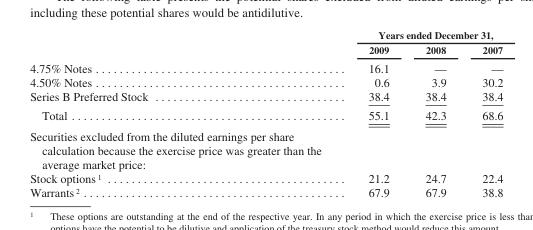table: (29, 28, 502, 198)
table column: (29, 28, 257, 198), (257, 28, 406, 198), (406, 28, 463, 198), (463, 28, 502, 198)
table column header: (29, 28, 502, 58)
table projected row header: (29, 125, 502, 170)
table row: (29, 125, 502, 170), (29, 105, 502, 125), (29, 58, 502, 75), (29, 88, 502, 105), (29, 42, 502, 58), (29, 28, 502, 42), (29, 170, 502, 184), (29, 184, 502, 198), (29, 75, 502, 88)
table spanning cell: (257, 28, 502, 42)
